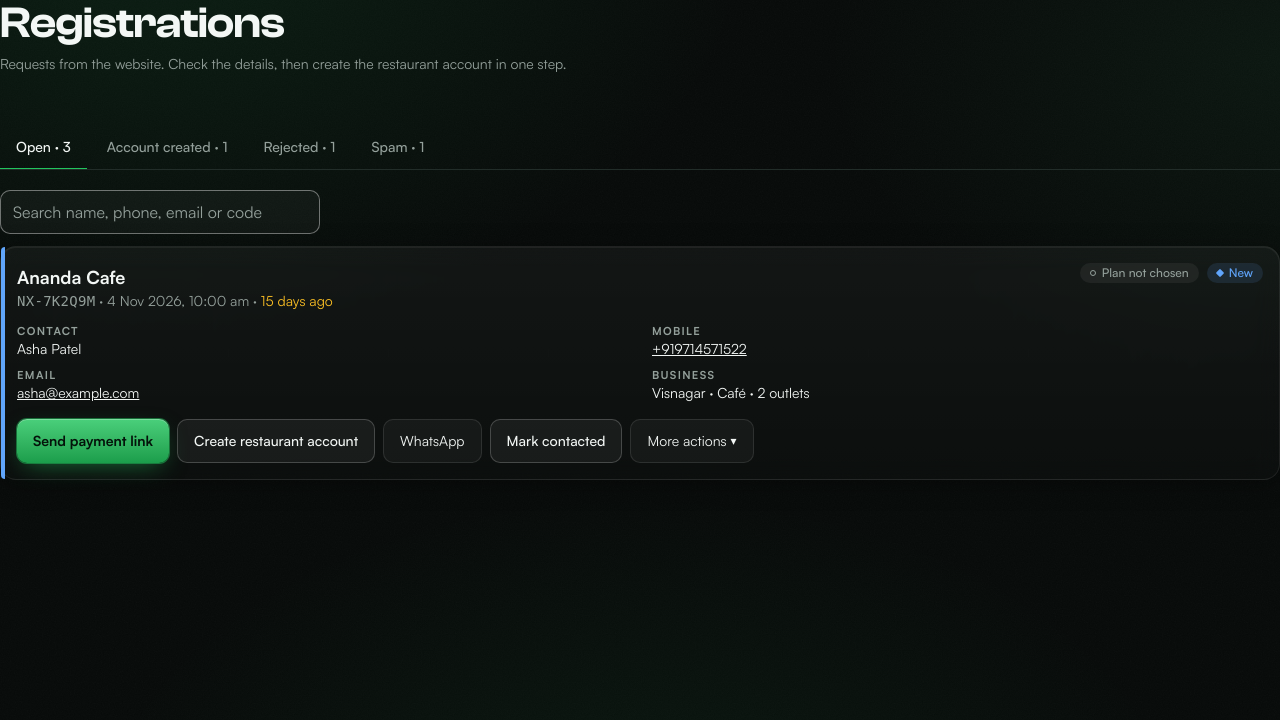
Test: RegistrationsPage › opens the create dialog prefilled from the request
The image size is (1280, 720).
Click the button "Create restaurant account". click: (276, 441)
box: [177,419,375,463]
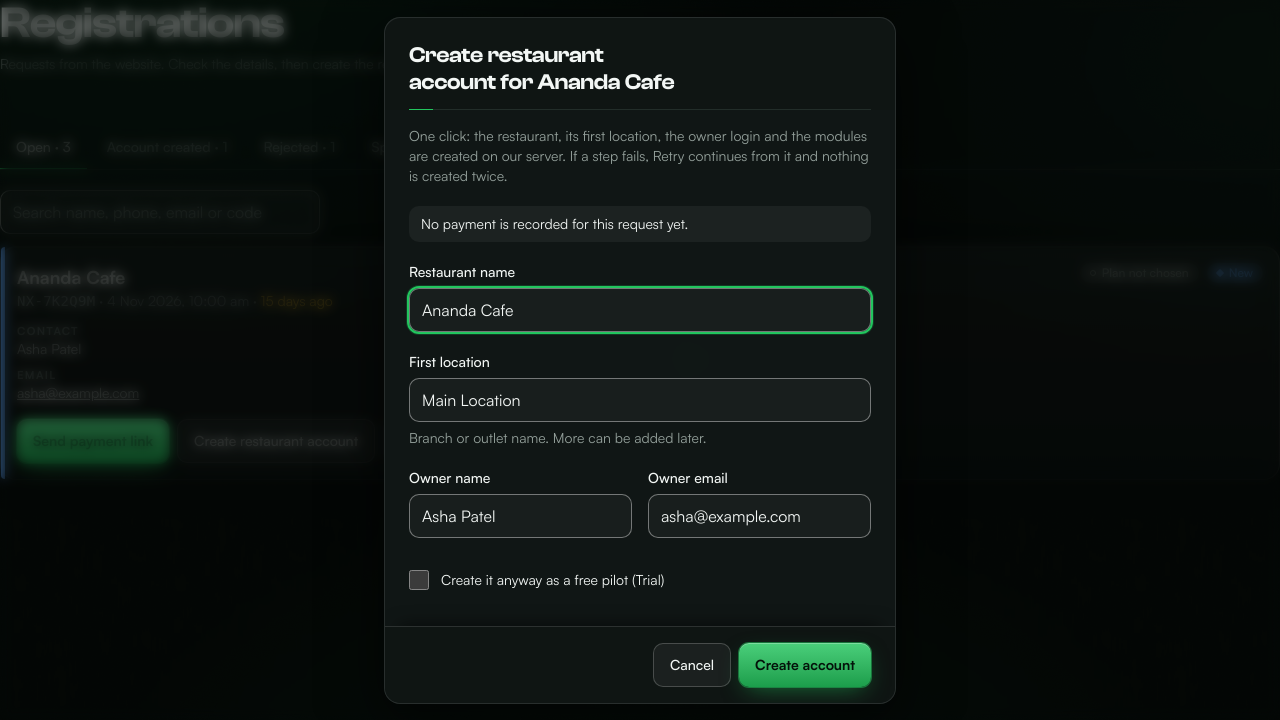
expect the field showing "Ananda Cafe" is shown: met, box [409,288,871,332]
expect the field showing "Asha Patel" is shown: met, box [409,494,632,538]
expect the field showing "asha@example.com" is shown: met, box [648,494,871,538]
